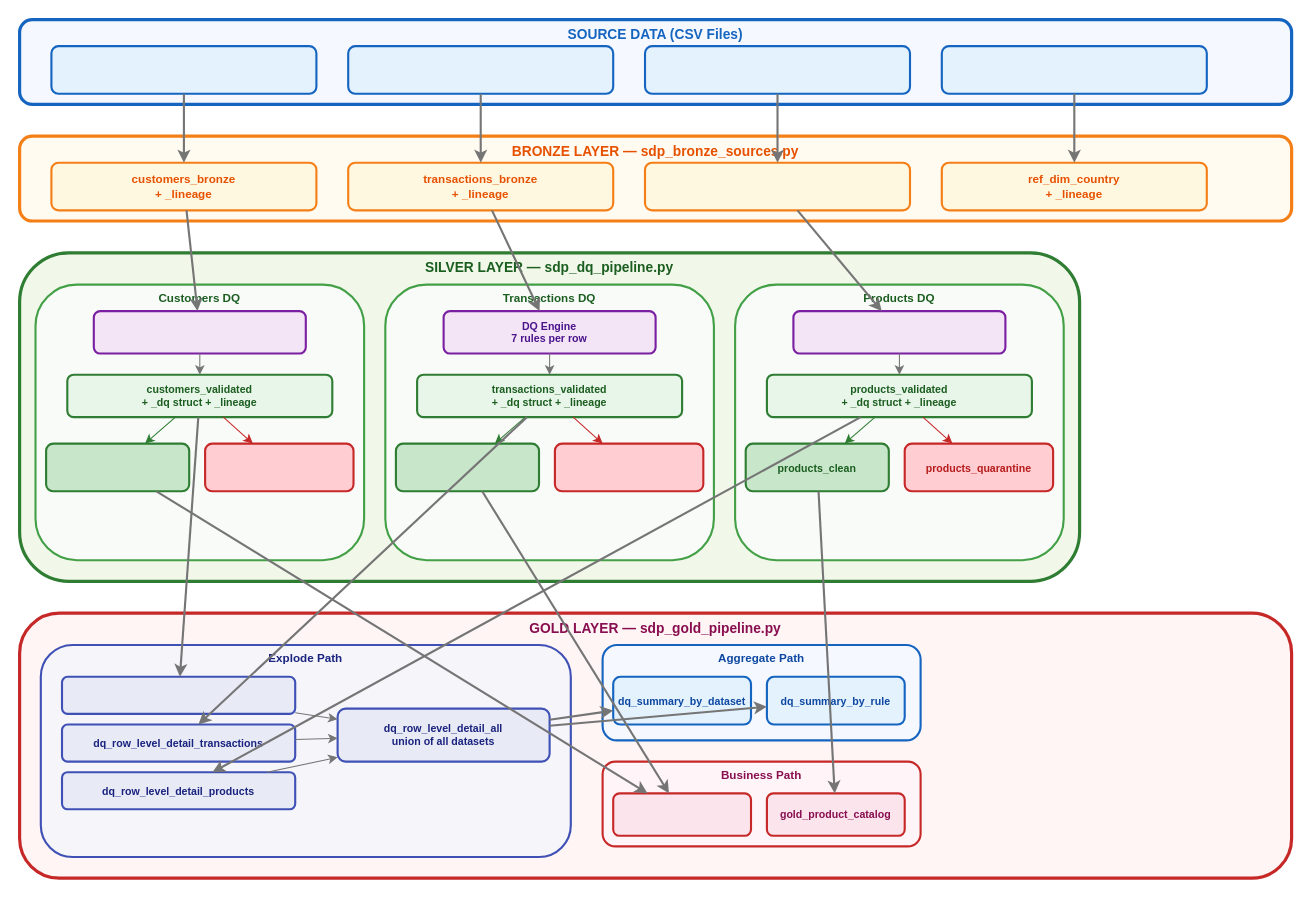
Some shapes in this 1311 by 898 pixel diagram are drawn without their labels. Each missing label, with the centre of its shape:
"customers.csv 17 rows" goes at (183,69).
"customers_clean all hard rules pass" goes at (117,467).
"customers_quarantine any hard rule fails" goes at (279,467).
"dim_country.csv 12 rows" goes at (1073,69).
"DQ Engine 5 rules per row" goes at (899,332).
"DQ Engine 8 rules per row" goes at (199,332).
"dq_row_level_detail_customers" goes at (178,694).
"gold_customer_360" goes at (682,814).
"products.csv 15 rows" goes at (777,69).
"products_bronze + _lineage" goes at (777,186).
"transactions.csv 16 rows" goes at (480,69).
"transactions_clean" goes at (467,467).
"transactions_quarantine" goes at (628,467).
